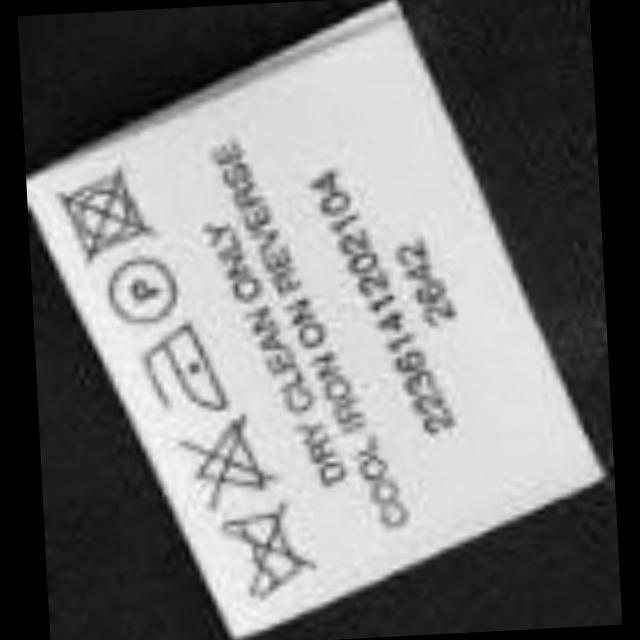DN_bleach: (173, 402, 283, 518)
DN_tumble_dry: (51, 160, 160, 270)
DN_wash: (211, 492, 325, 610)
iron_low: (132, 309, 232, 418)
normal_dry_clean_solvents: (102, 246, 186, 330)
